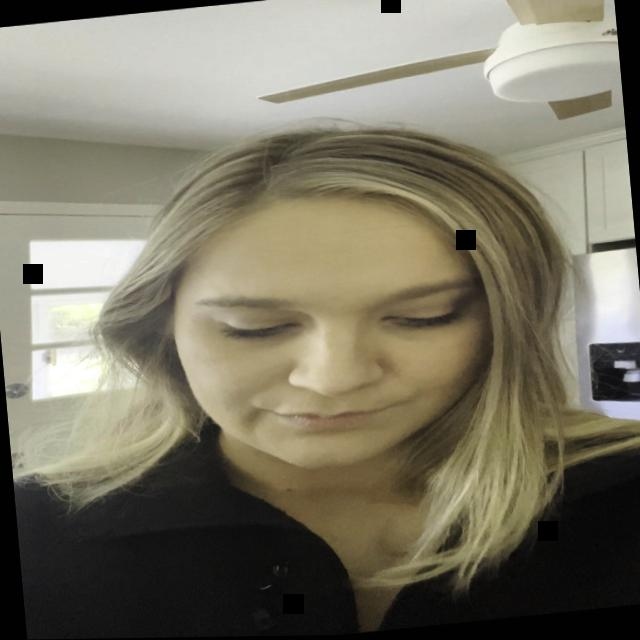NO-Mask: (154, 158, 498, 486)
